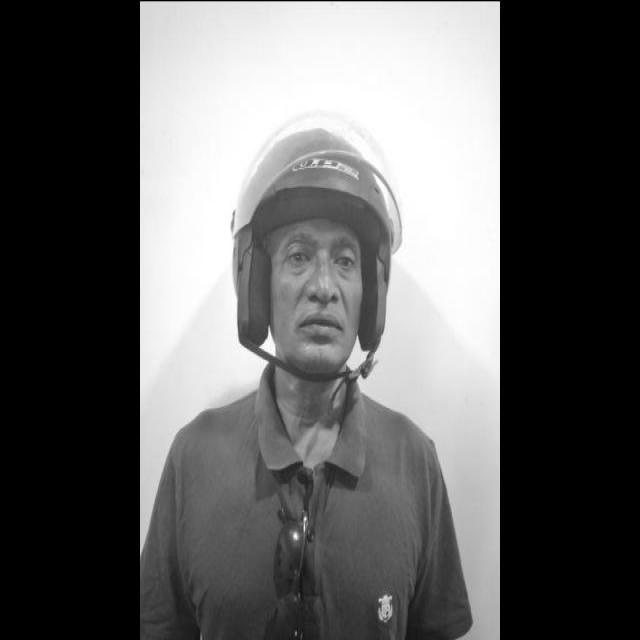5_casco: (229, 109, 403, 384)
